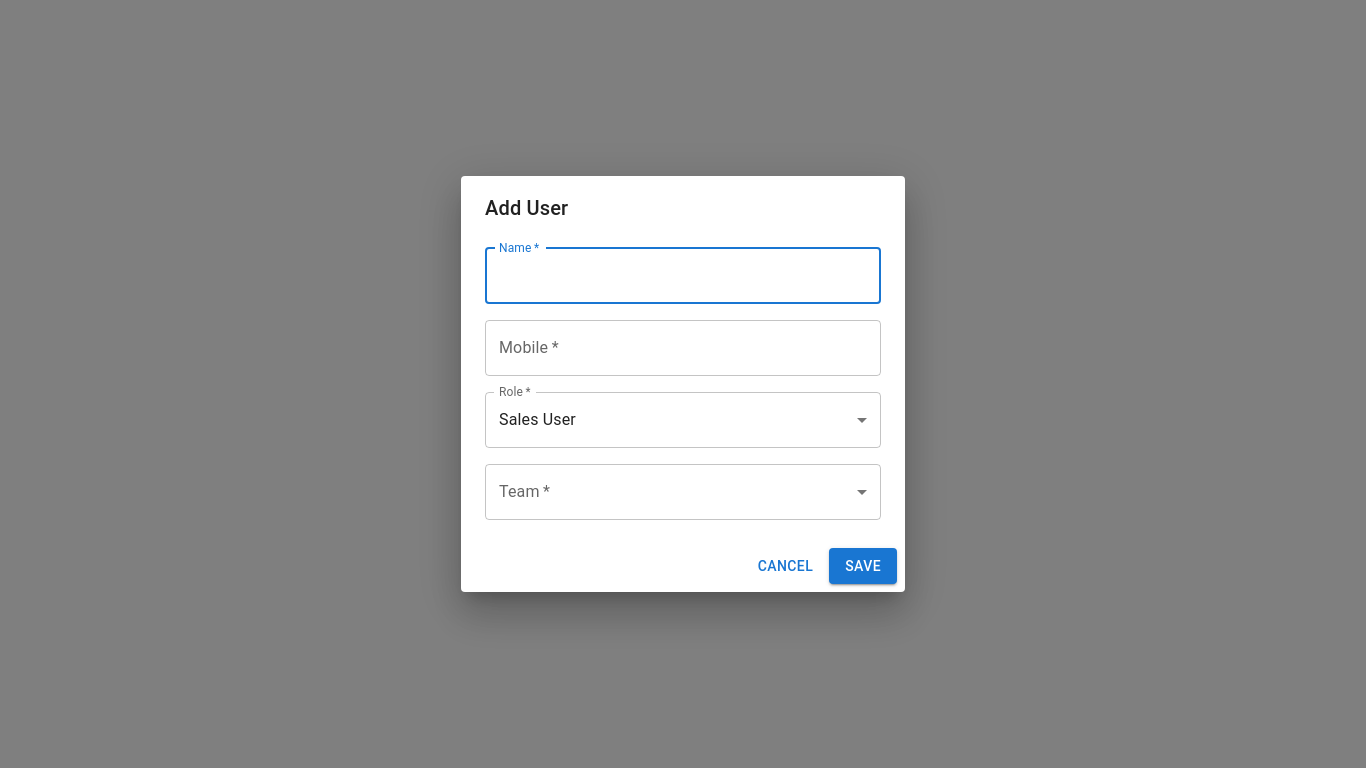
it: UserFormDialog › shows an inline error and disables Save when the mobile-availability check reports unavailable
The width and height of the screenshot is (1366, 768).
In the field labelled "Mobile *": (683, 348) [485,320,881,376], type "+8801700000303"
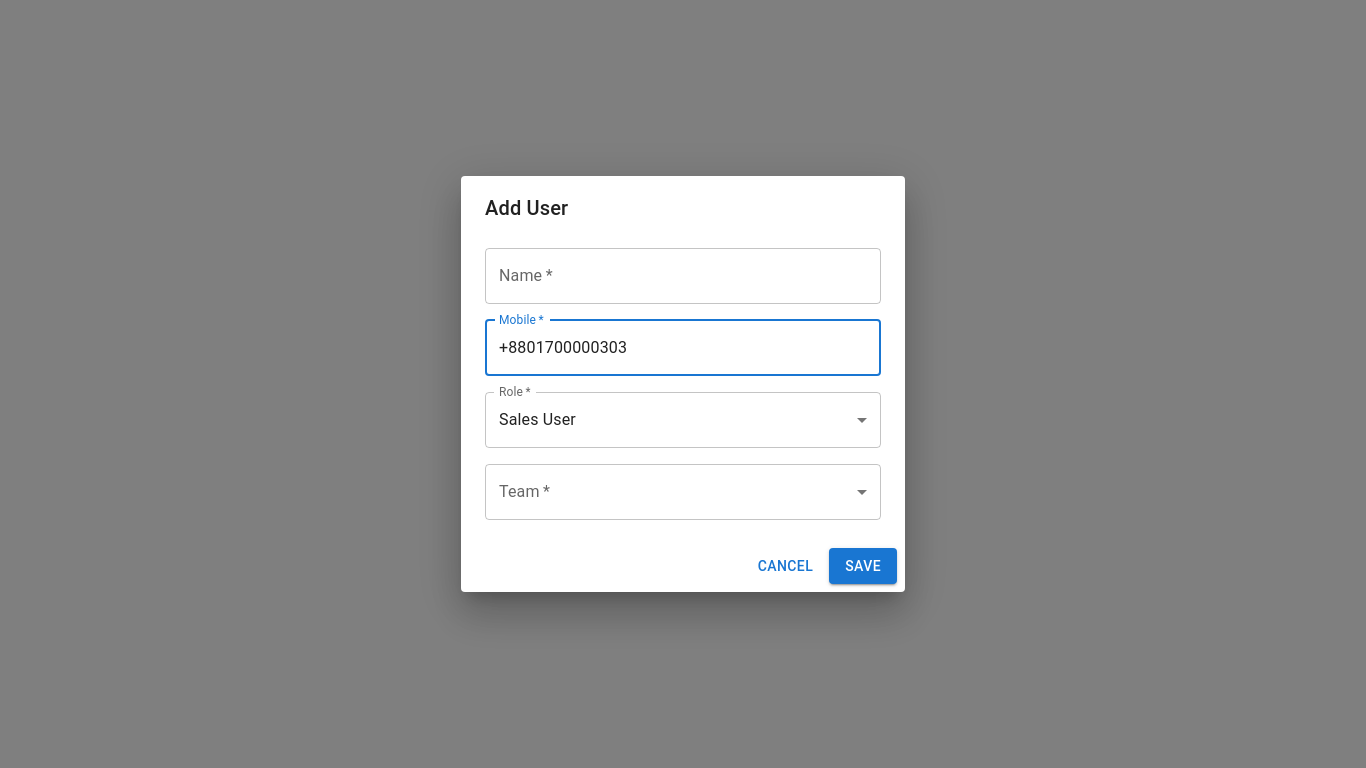
Press Tab
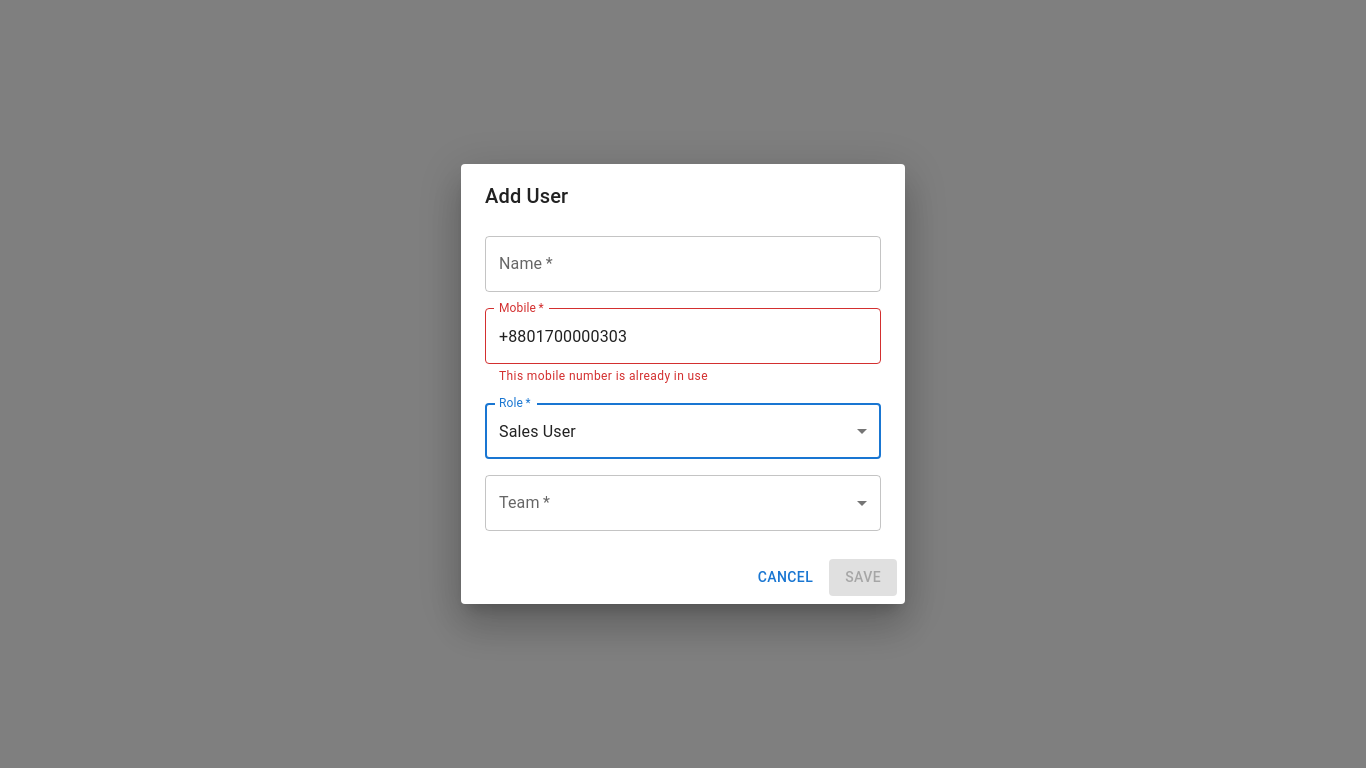
Check: the text "This mobile number is already in use" is shown, box [499,369,708,383]
Check: the button "Save" is disabled, box [829,559,897,596]
